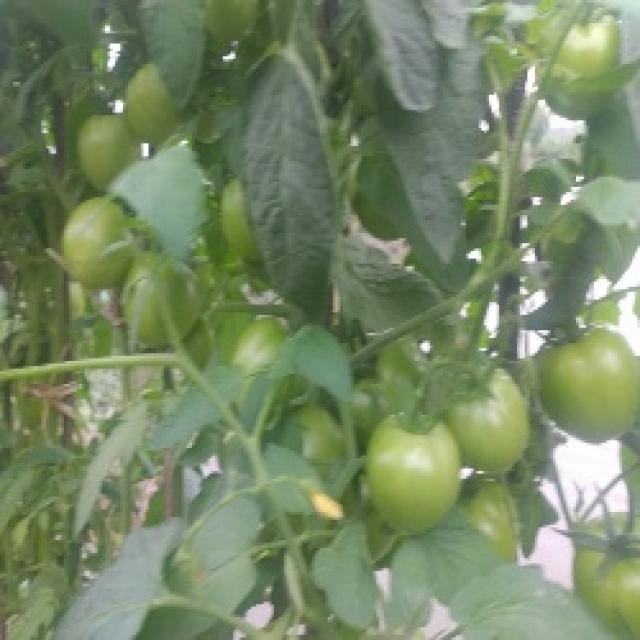tomato: (533, 326, 640, 444), (366, 417, 464, 534), (457, 358, 526, 471), (126, 256, 204, 343), (574, 517, 640, 616), (61, 198, 135, 274), (472, 476, 524, 565), (83, 107, 142, 183), (122, 63, 173, 150), (218, 178, 261, 263), (228, 309, 288, 368), (556, 17, 618, 70), (542, 85, 609, 125), (354, 371, 407, 416), (206, 1, 260, 45), (307, 406, 339, 465)
